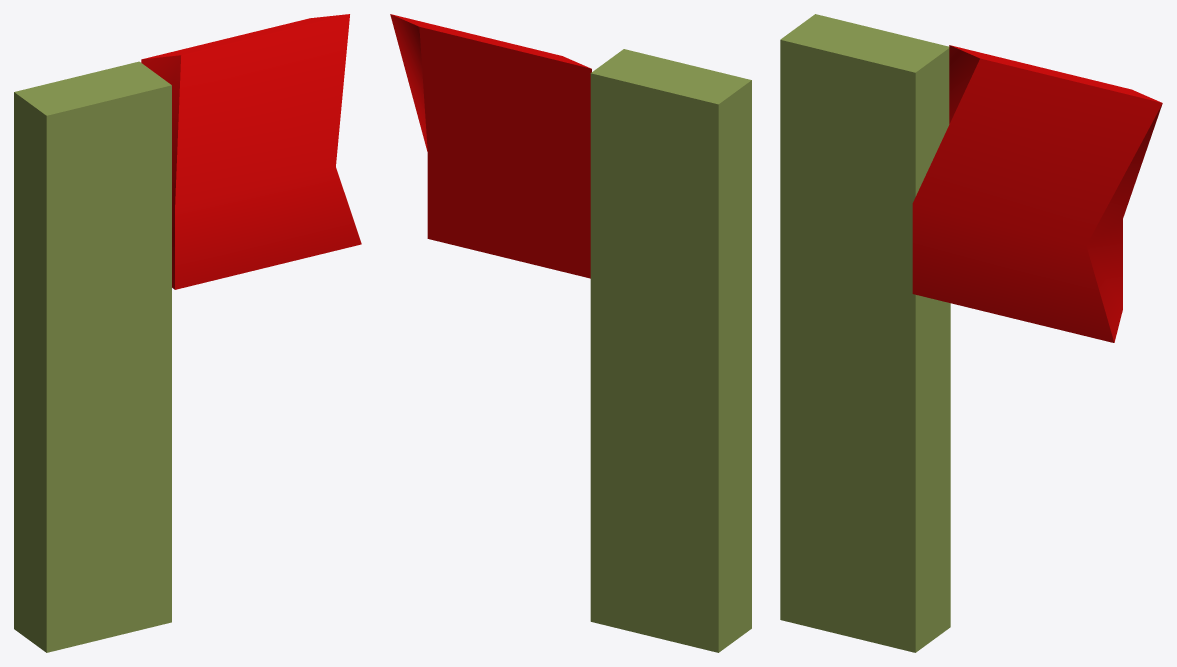
Rendered from flag3.fbx.
3 renders of one model, left to right at view 1: azimuth 30°, elevation 25°; view 2: azimuth 150°, elevation 25°; view 3: azimuth 330°, elevation 25°, orthographic. The views are drawn at different scales.
Visible parts, largest first — view 1: polySurface2; view 2: polySurface2; view 3: polySurface2.
Boxes of the visible parts, x1,y1,x2,y2 form: polySurface2: (14,14,361,652); polySurface2: (390,14,751,652); polySurface2: (780,14,1162,652).
Size of the model in its own units: 0.8073 by 1.27 by 0.1506.
